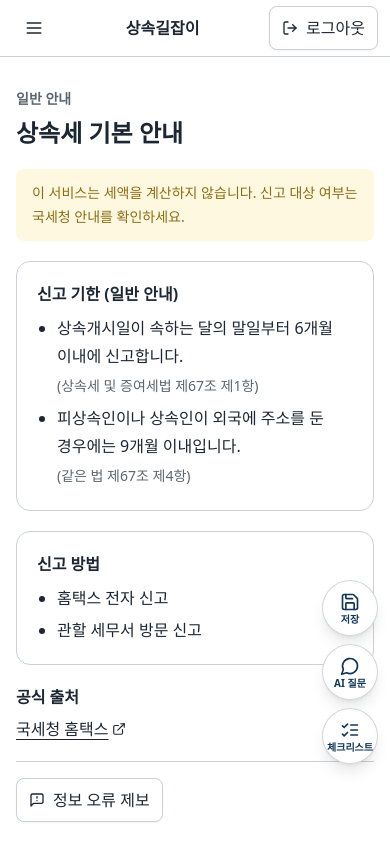
Test case: 사이드바 계정 칸 › 모바일 메뉴에서는 '로그인 중'과 메일을 보이고 [로그아웃]·[회원 탈퇴]를 가운데 정렬로 둔다
Click the button named "메뉴 열기": (34, 28) [12,6,56,50]
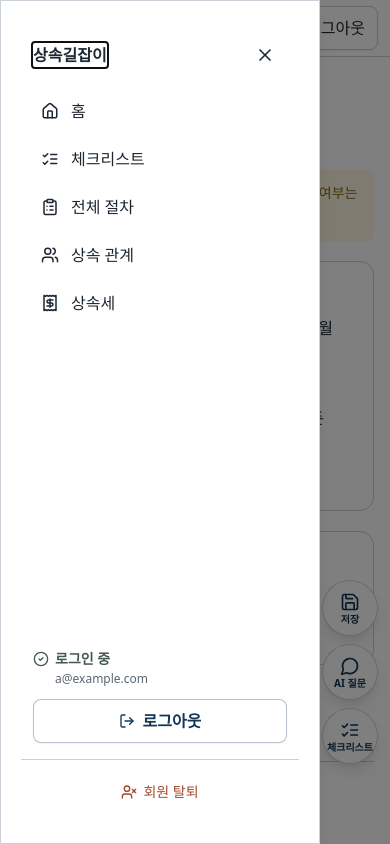
Now the message reads "로그인 중", box [55,649,110,668]
Now the text "a@example.com" is shown, box [55,670,148,687]
